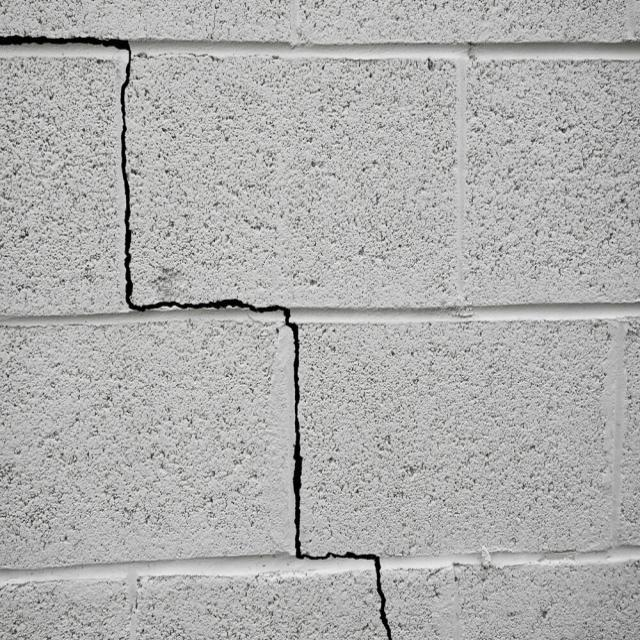Crack: (0, 29, 394, 639)
